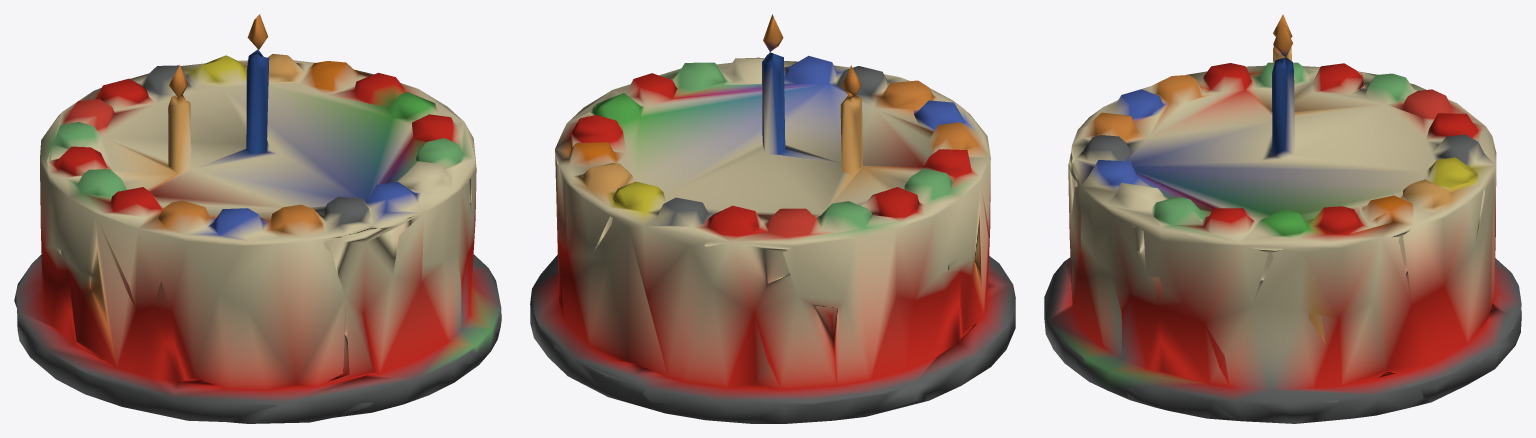
Rendered from gen3d-birthday-cake-lod1.glb.
3 views of the same model, side by side, from view 1: azimuth 30°, elevation 25°; view 2: azimuth 150°, elevation 25°; view 3: azimuth 270°, elevation 25° (orthographic).
Parts seen in each view (by area): view 1: part_0; view 2: part_0; view 3: part_0.
Part boxes in pixels (x1,y1,x2,y2): part_0: (14, 14, 501, 423); part_0: (530, 14, 1015, 423); part_0: (1044, 14, 1521, 423).
Bounding box in the file's own units: 1.42 × 0.9965 × 1.42.
